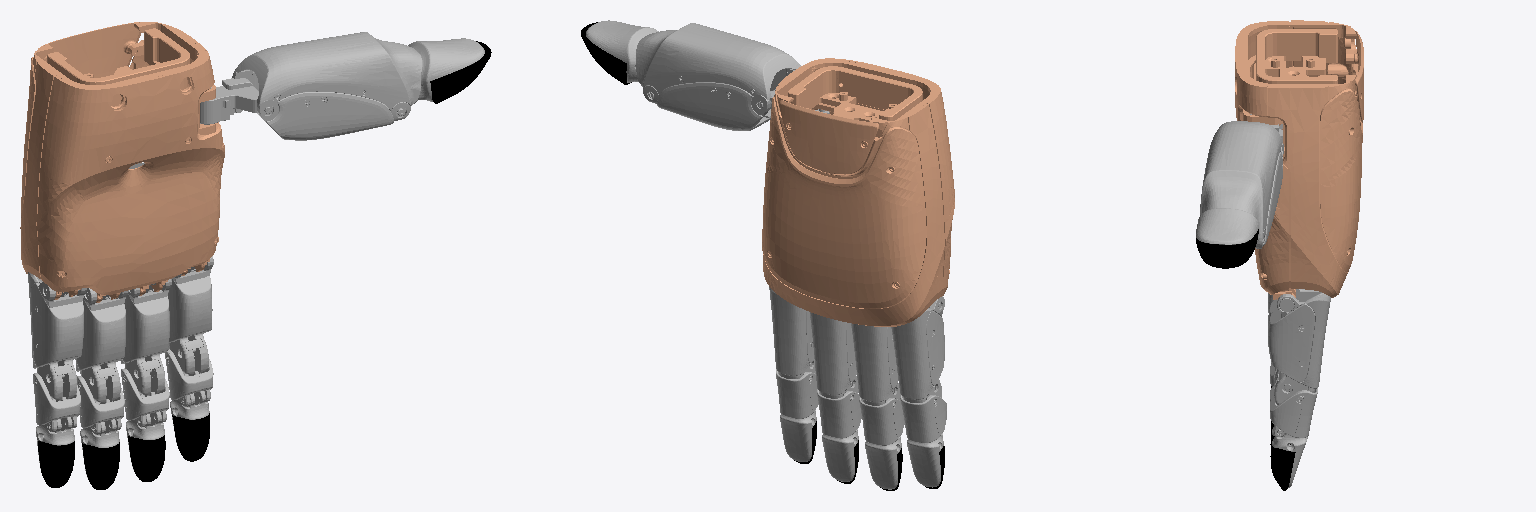
URDF robot description (DexH15_left_urdf):
<?xml version='1.0' encoding='utf-8'?>
<robot name="DexH15_left_urdf">
  <link name="left_palm_link">
    <inertial>
      <origin xyz="-0.000224527561288826 0.00158307933540662 -0.0214840283300513" rpy="0 0 0" />
      <mass value="0.138023316328305" />
      <inertia ixx="0.00010441363157202" ixy="7.84508741395596E-07" ixz="7.49593125316604E-07" iyy="0.000156427337479679" iyz="-8.26348519891999E-06" izz="9.45151976134503E-05" />
    </inertial>
    <visual>
      <origin xyz="0 0 0" rpy="0 0 0" />
      <geometry>
        <mesh filename="left_palm_link.STL" />
      </geometry>
      <material name="">
        <color rgba="0.929411764705882 0.705882352941176 0.568627450980392 1" />
      </material>
    </visual>
    </link>
  <link name="left_index_camera_link_0">
    <inertial>
      <origin xyz="-0.0345309373292912 -0.00144236772036107 0.0139433504314649" rpy="0 0 0" />
      <mass value="0.000654042467848702" />
      <inertia ixx="9.12315073908897E-09" ixy="-3.85978231875402E-22" ixz="-3.87386873734493E-22" iyy="9.51567345982665E-09" iyz="1.59008576074093E-09" izz="1.10027887776177E-08" />
    </inertial>
    <visual>
      <origin xyz="0 0 0" rpy="0 0 0" />
      <geometry>
        <mesh filename="left_index_camera_link_0.STL" />
      </geometry>
      <material name="">
        <color rgba="1 1 1 1" />
      </material>
    </visual>
    </link>
  <joint name="left_index_camera_joint_0" type="fixed">
    <origin xyz="0.03001849248823 -0.01832669382602 -0.017807888949226" rpy="3.14159265358979 0 0" />
    <parent link="left_palm_link" />
    <child link="left_index_camera_link_0" />
    <axis xyz="0 0 0" />
  </joint>
  <link name="left_thumb_link_0">
    <inertial>
      <origin xyz="0.00886190592400368 -0.00203400290112155 -0.000319447367067315" rpy="0 0 0" />
      <mass value="0.00395630335895201" />
      <inertia ixx="1.45654128977515E-07" ixy="-5.64417822654374E-08" ixz="1.82838410760135E-08" iyy="2.5184523636244E-07" iyz="1.18338554507999E-08" izz="3.36149981771904E-07" />
    </inertial>
    <visual>
      <origin xyz="0 0 0" rpy="0 0 0" />
      <geometry>
        <mesh filename="left_thumb_link_0.STL" />
      </geometry>
      <material name="">
        <color rgba="0.752941176470588 0.752941176470588 0.752941176470588 1" />
      </material>
    </visual>
    </link>
  <joint name="left_thumb_joint_0" type="revolute">
    <origin xyz="0.030018 -0.018327 -0.017808" rpy="3.1416 0 0" />
    <parent link="left_palm_link" />
    <child link="left_thumb_link_0" />
    <axis xyz="0 0 1" />
    <limit lower="0" upper="1.9129" effort="0" velocity="0" />
  </joint>
  <link name="left_thumb_link_1">
    <inertial>
      <origin xyz="0.0314598532944025 0.00518571088036306 6.24000457684279E-05" rpy="0 0 0" />
      <mass value="0.0186700386421083" />
      <inertia ixx="2.78068751676717E-06" ixy="-6.25632820068549E-07" ixz="-2.19324671389508E-08" iyy="7.1354171072541E-06" iyz="-1.84133130210875E-09" izz="5.83847795078633E-06" />
    </inertial>
    <visual>
      <origin xyz="0 0 0" rpy="0 0 0" />
      <geometry>
        <mesh filename="left_thumb_link_1.STL" />
      </geometry>
      <material name="">
        <color rgba="0.752941176470588 0.752941176470588 0.752941176470588 1" />
      </material>
    </visual>
    </link>
  <joint name="left_thumb_joint_1" type="revolute">
    <origin xyz="0.0213582162736342 0.00246508447013965 -0.00150009683382987" rpy="1.5707963267949 0 0.114907789219488" />
    <parent link="left_thumb_link_0" />
    <child link="left_thumb_link_1" />
    <axis xyz="0 0 0.999999999999996" />
    <limit lower="0" upper="1.5184" effort="0" velocity="0" />
  </joint>
  <link name="left_thumb_link_2">
    <inertial>
      <origin xyz="0.0115158413080773 -0.0118042467238058 -0.000244197665490851" rpy="0 0 0" />
      <mass value="0.015451379991269" />
      <inertia ixx="1.30225686518134E-06" ixy="5.2068665233815E-07" ixz="-3.64416529159111E-08" iyy="2.28234852593261E-06" iyz="1.41145553666713E-11" izz="2.35874397775107E-06" />
    </inertial>
    <visual>
      <origin xyz="0 0 0" rpy="0 0 0" />
      <geometry>
        <mesh filename="left_thumb_link_2.STL" />
      </geometry>
      <material name="">
        <color rgba="0.752941176470588 0.752941176470588 0.752941176470588 1" />
      </material>
    </visual>
    </link>
  <joint name="left_thumb_joint_2" type="revolute">
    <origin xyz="0.0602895552108653 0.0124999999999762 0" rpy="0 0 0" />
    <parent link="left_thumb_link_1" />
    <child link="left_thumb_link_2" />
    <axis xyz="0 0 0.999999999999996" />
    <limit lower="0" upper="2.0944" effort="0" velocity="0" />
  </joint>
  <link name="left_thumb_tactile_link_0">
    <inertial>
      <origin xyz="-5.78077314935047E-07 0.00725268176877747 0.00384771731961831" rpy="0 0 0" />
      <mass value="0.00728796921833148" />
      <inertia ixx="6.31336153673872E-07" ixy="2.93222685321651E-11" ixz="3.15221829171601E-11" iyy="4.14819918339156E-07" iyz="-2.36494153433172E-08" izz="8.00774477654966E-07" />
    </inertial>
    <visual>
      <origin xyz="0 0 0" rpy="0 0 0" />
      <geometry>
        <mesh filename="left_thumb_tactile_link_0.STL" />
      </geometry>
      <material name="">
        <color rgba="0 0 0 1" />
      </material>
    </visual>
    </link>
  <joint name="left_thumb_tactile_joint_0" type="fixed">
    <origin xyz="0.0180809955600047 -0.00892245083780965 0" rpy="1.16590454050981 -1.57079631189374 -3.0481158724312" />
    <parent link="left_thumb_link_2" />
    <child link="left_thumb_tactile_link_0" />
    <axis xyz="0 0 0" />
  </joint>
  <link name="left_index_link_0">
    <inertial>
      <origin xyz="0.0204566759048482 -0.00340392796790297 0.000106772385285211" rpy="0 0 0" />
      <mass value="0.00775077740728454" />
      <inertia ixx="3.44451476870945E-07" ixy="-4.78354768283327E-08" ixz="2.17194999011832E-08" iyy="1.38929483134256E-06" iyz="-3.19576191697703E-10" izz="1.28696816579278E-06" />
    </inertial>
    <visual>
      <origin xyz="0 0 0" rpy="0 0 0" />
      <geometry>
        <mesh filename="left_index_link_0.STL" />
      </geometry>
      <material name="">
        <color rgba="0.752941176470588 0.752941176470588 0.752941176470588 1" />
      </material>
    </visual>
    </link>
  <joint name="left_index_joint_0" type="revolute">
    <origin xyz="0.030201 -0.0042267 -0.094134" rpy="3.1416 1.5533 0" />
    <parent link="left_palm_link" />
    <child link="left_index_link_0" />
    <axis xyz="0 0 1" />
    <limit lower="0" upper="1.3962" effort="0" velocity="0" />
  </joint>
  <link name="left_index_link_1">
    <inertial>
      <origin xyz="0.00863637835336946 0.00390728796933644 0.00022812438552915" rpy="0 0 0" />
      <mass value="0.00147411538103135" />
      <inertia ixx="8.50523649205121E-08" ixy="-9.90027735639069E-09" ixz="1.360744834463E-10" iyy="8.83229560348037E-08" iyz="3.82289631659958E-10" izz="7.42498077305066E-08" />
    </inertial>
    <visual>
      <origin xyz="0 0 0" rpy="0 0 0" />
      <geometry>
        <mesh filename="left_index_link_1.STL" />
      </geometry>
      <material name="">
        <color rgba="0.752941176470588 0.752941176470588 0.752941176470588 1" />
      </material>
    </visual>
    </link>
  <joint name="left_index_joint_1" type="revolute">
    <origin xyz="0.04392915363646 -0.005969523805632 -9.99999999999925E-05" rpy="0 0 0" />
    <parent link="left_index_link_0" />
    <child link="left_index_link_1" />
    <axis xyz="0 0 1" />
    <limit lower="0" upper="1.4242" effort="0" velocity="0" />
  </joint>
  <link name="left_index_link_2">
    <inertial>
      <origin xyz="0.00876883740153682 -0.00431458381008099 2.53712887969514E-05" rpy="0 0 0" />
      <mass value="0.005252676301425" />
      <inertia ixx="1.14128982575059E-07" ixy="2.07811239731582E-08" ixz="8.71385135074927E-10" iyy="3.17984260602417E-07" iyz="3.96988691665183E-10" izz="2.89743910907443E-07" />
    </inertial>
    <visual>
      <origin xyz="0 0 0" rpy="0 0 0" />
      <geometry>
        <mesh filename="left_index_link_2.STL" />
      </geometry>
      <material name="">
        <color rgba="0.752941176470588 0.752941176470588 0.752941176470588 1" />
      </material>
    </visual>
    </link>
  <joint name="left_index_joint_2" type="revolute">
    <origin xyz="0.0167238384567498 0.00913378726174574 9.99999999999959E-05" rpy="0 0 0" />
    <parent link="left_index_link_1" />
    <child link="left_index_link_2" />
    <axis xyz="0 0 1" />
    <limit lower="0" upper="1.3265" effort="0" velocity="0" />
  </joint>
  <link name="left_index_tactile_link_0">
    <inertial>
      <origin xyz="-7.15639129139981E-06 0.00766631875010511 0.00153146885589252" rpy="0 0 0" />
      <mass value="0.00158520992402904" />
      <inertia ixx="5.42381925578706E-08" ixy="2.29314385505891E-11" ixz="2.18195244823304E-11" iyy="3.12163534275782E-08" iyz="3.83299582470554E-10" izz="6.98170364019621E-08" />
    </inertial>
    <visual>
      <origin xyz="0 0 0" rpy="0 0 0" />
      <geometry>
        <mesh filename="left_index_tactile_link_0.STL" />
      </geometry>
      <material name="">
        <color rgba="0 0 0 1" />
      </material>
    </visual>
    </link>
  <joint name="left_index_tactile_joint_0" type="fixed">
    <origin xyz="0.00890093470302482 -0.00221208366030078 0" rpy="-0.209440026514175 -1.57079630572147 -1.39618505518417" />
    <parent link="left_index_link_2" />
    <child link="left_index_tactile_link_0" />
    <axis xyz="0 0 0" />
  </joint>
  <link name="left_middle_link_0">
    <inertial>
      <origin xyz="0.0204566843404468 -0.00340391868913875 0.000106768367714546" rpy="0 0 0" />
      <mass value="0.00775077114830107" />
      <inertia ixx="3.44450484584185E-07" ixy="-4.78341328337178E-08" ixz="2.17188635148522E-08" iyy="1.38929048262302E-06" iyz="-3.19908504195602E-10" izz="1.28696329179596E-06" />
    </inertial>
    <visual>
      <origin xyz="0 0 0" rpy="0 0 0" />
      <geometry>
        <mesh filename="left_middle_link_0.STL" />
      </geometry>
      <material name="">
        <color rgba="0.752941176470588 0.752941176470588 0.752941176470588 1" />
      </material>
    </visual>
    </link>
  <joint name="left_middle_joint_0" type="revolute">
    <origin xyz="0.010124 -0.0042267 -0.098624" rpy="3.1416 1.5708 0" />
    <parent link="left_palm_link" />
    <child link="left_middle_link_0" />
    <axis xyz="0 0 1" />
    <limit lower="0" upper="1.3962" effort="0" velocity="0" />
  </joint>
  <link name="left_middle_link_1">
    <inertial>
      <origin xyz="0.00863630329429653 0.00390717697250072 0.000178198821438267" rpy="0 0 0" />
      <mass value="0.00147412457646992" />
      <inertia ixx="8.50531857082762E-08" ixy="-9.90080938380614E-09" ixz="1.36620691896439E-10" iyy="8.83234859795491E-08" iyz="3.82911990898269E-10" izz="7.42511592135602E-08" />
    </inertial>
    <visual>
      <origin xyz="0 0 0" rpy="0 0 0" />
      <geometry>
        <mesh filename="left_middle_link_1.STL" />
      </geometry>
      <material name="">
        <color rgba="0.752941176470588 0.752941176470588 0.752941176470588 1" />
      </material>
    </visual>
    </link>
  <joint name="left_middle_joint_1" type="revolute">
    <origin xyz="0.04392915363646 -0.005969523805632 -5.00000000000014E-05" rpy="0 0 0" />
    <parent link="left_middle_link_0" />
    <child link="left_middle_link_1" />
    <axis xyz="0 0 1" />
    <limit lower="0" upper="1.4242" effort="0" velocity="0" />
  </joint>
  <link name="left_middle_link_2">
    <inertial>
      <origin xyz="0.0104963648190131 -0.00356220705840366 1.79692073175742E-05" rpy="0 0 0" />
      <mass value="0.00350577686542458" />
      <inertia ixx="7.62409548221202E-08" ixy="8.62719579764757E-09" ixz="4.61196647645369E-10" iyy="2.04263268771956E-07" iyz="2.18411648477994E-10" izz="1.80423307137445E-07" />
    </inertial>
    <visual>
      <origin xyz="0 0 0" rpy="0 0 0" />
      <geometry>
        <mesh filename="left_middle_link_2.STL" />
      </geometry>
      <material name="">
        <color rgba="0.752941176470588 0.752941176470588 0.752941176470588 1" />
      </material>
    </visual>
    </link>
  <joint name="left_middle_joint_2" type="revolute">
    <origin xyz="0.016723753369016 0.00913394305449331 5.00004041466481E-05" rpy="0 0 0" />
    <parent link="left_middle_link_1" />
    <child link="left_middle_link_2" />
    <axis xyz="0 0 1" />
    <limit lower="0" upper="1.3265" effort="0" velocity="0" />
  </joint>
  <link name="left_middle_tactile_link_0">
    <inertial>
      <origin xyz="-7.15844607341622E-06 0.00766635884219313 0.00153148014341381" rpy="0 0 0" />
      <mass value="0.00158521558034911" />
      <inertia ixx="5.42385291304753E-08" ixy="2.30172330666832E-11" ixz="2.18046948187613E-11" iyy="3.12164225504677E-08" iyz="3.83172825410139E-10" izz="6.98173241973119E-08" />
    </inertial>
    <visual>
      <origin xyz="0 0 0" rpy="0 0 0" />
      <geometry>
        <mesh filename="left_middle_tactile_link_0.STL" />
      </geometry>
      <material name="">
        <color rgba="0 0 0 1" />
      </material>
    </visual>
    </link>
  <joint name="left_middle_tactile_joint_0" type="fixed">
    <origin xyz="0.00890093470302482 -0.00221208366030078 0" rpy="-0.209440026514175 -1.57079630572147 -1.39618505518417" />

    <parent link="left_middle_link_2" />
    <child link="left_middle_tactile_link_0" />
    <axis xyz="0 0 0" />
  </joint>
  <link name="left_ring_link_0">
    <inertial>
      <origin xyz="0.0204566799094852 -0.00340394110598915 0.000106728030791091" rpy="0 0 0" />
      <mass value="0.00775076085736334" />
      <inertia ixx="3.44452724587101E-07" ixy="-4.78355554817442E-08" ixz="2.17143080175849E-08" iyy="1.38929120760948E-06" iyz="-3.23578169779354E-10" izz="1.28696060487313E-06" />
    </inertial>
    <visual>
      <origin xyz="0 0 0" rpy="0 0 0" />
      <geometry>
        <mesh filename="left_ring_link_0.STL" />
      </geometry>
      <material name="">
        <color rgba="0.752941176470588 0.752941176470588 0.752941176470588 1" />
      </material>
    </visual>
    </link>
  <joint name="left_ring_joint_0" type="revolute">
    <origin xyz="-0.010453 -0.0042267 -0.097134" rpy="0 1.5533 3.1416" />
    <parent link="left_palm_link" />
    <child link="left_ring_link_0" />
    <axis xyz="0 0 1" />
    <limit lower="0" upper="1.3962" effort="0" velocity="0" />
  </joint>
  <link name="left_ring_link_1">
    <inertial>
      <origin xyz="0.00863656473844775 0.00390667648276935 0.000178232806539416" rpy="0 0 0" />
      <mass value="0.0014741131075788" />
      <inertia ixx="8.50509302188356E-08" ixy="-9.90009590017202E-09" ixz="1.36906888194624E-10" iyy="8.83248382793323E-08" iyz="3.8338680560416E-10" izz="7.42503757420285E-08" />
    </inertial>
    <visual>
      <origin xyz="0 0 0" rpy="0 0 0" />
      <geometry>
        <mesh filename="left_ring_link_1.STL" />
      </geometry>
      <material name="">
        <color rgba="0.752941176470588 0.752941176470588 0.752941176470588 1" />
      </material>
    </visual>
    </link>
  <joint name="left_ring_joint_1" type="revolute">
    <origin xyz="0.04392915363646 -0.005969523805632 -4.99999999999962E-05" rpy="0 0 0" />
    <parent link="left_ring_link_0" />
    <child link="left_ring_link_1" />
    <axis xyz="0 0 1" />
    <limit lower="0" upper="1.4242" effort="0" velocity="0" />
  </joint>
  <link name="left_ring_link_2">
    <inertial>
      <origin xyz="0.0104959877037091 -0.00356299090961758 1.79692717223665E-05" rpy="0 0 0" />
      <mass value="0.00350578304499802" />
      <inertia ixx="7.62425962047337E-08" ixy="8.6385768518345E-09" ixz="4.61267449615145E-10" iyy="2.04262133127794E-07" iyz="2.18350852185257E-10" izz="1.80423783141213E-07" />
    </inertial>
    <visual>
      <origin xyz="0 0 0" rpy="0 0 0" />
      <geometry>
        <mesh filename="left_ring_link_2.STL" />
      </geometry>
      <material name="">
        <color rgba="0.752941176470588 0.752941176470588 0.752941176470588 1" />
      </material>
    </visual>
    </link>
  <joint name="left_ring_joint_2" type="revolute">
    <origin xyz="0.0167243755033895 0.00913280386803666 4.99999999999997E-05" rpy="0 0 0" />
    <parent link="left_ring_link_1" />
    <child link="left_ring_link_2" />
    <axis xyz="0 0 1" />
    <limit lower="0" upper="1.3265" effort="0" velocity="0" />
  </joint>
  <link name="left_ring_tactile_link_0">
    <inertial>
      <origin xyz="-7.15541671762743E-06 0.00766639156198312 0.00153149157651967" rpy="0 0 0" />
      <mass value="0.00158521916302358" />
      <inertia ixx="5.42387930699269E-08" ixy="2.30550121512106E-11" ixz="2.18004637932601E-11" iyy="3.12164460613495E-08" iyz="3.83037594481985E-10" izz="6.98175063378475E-08" />
    </inertial>
    <visual>
      <origin xyz="0 0 0" rpy="0 0 0" />
      <geometry>
        <mesh filename="left_ring_tactile_link_0.STL" />
      </geometry>
      <material name="">
        <color rgba="0 0 0 1" />
      </material>
    </visual>
    </link>
  <joint name="left_ring_tactile_joint_0" type="fixed">
    <origin xyz="0.0089007023596345 -0.00221269147396499 0" rpy="-0.209508596064922 -1.57079631189374 -1.39620674492064" />
    <parent link="left_ring_link_2" />
    <child link="left_ring_tactile_link_0" />
    <axis xyz="0 0 0" />
  </joint>
  <link name="left_pinky_link_0">
    <inertial>
      <origin xyz="0.0204567127384005 -0.0034039131860276 0.000106743859423136" rpy="0 0 0" />
      <mass value="0.00775072844348533" />
      <inertia ixx="3.44448176446781E-07" ixy="-4.78315002665733E-08" ixz="2.17135671842384E-08" iyy="1.38928021700541E-06" iyz="-3.2256933391953E-10" izz="1.28694894767849E-06" />
    </inertial>
    <visual>
      <origin xyz="0 0 0" rpy="0 0 0" />
      <geometry>
        <mesh filename="left_pinky_link_0.STL" />
      </geometry>
      <material name="">
        <color rgba="0.752941176470588 0.752941176470588 0.752941176470588 1" />
      </material>
    </visual>
    </link>
  <joint name="left_pinky_joint_0" type="revolute">
    <origin xyz="-0.03024425117588 -0.00422669382602999 -0.091146782918886" rpy="0 1.53101985492608 3.14159265358979" />
    <parent link="left_palm_link" />
    <child link="left_pinky_link_0" />
    <axis xyz="0 0 1" />
    <limit lower="0" upper="1.3962" effort="0" velocity="0" />
  </joint>
  <link name="left_pinky_link_1">
    <inertial>
      <origin xyz="0.00863655350828611 0.0039067127925473 0.000178243368767029" rpy="0 0 0" />
      <mass value="0.00147411219977373" />
      <inertia ixx="8.50508776599289E-08" ixy="-9.90010875713495E-09" ixz="1.37001987854559E-10" iyy="8.83246994146833E-08" iyz="3.834493370159E-10" izz="7.4250258388128E-08" />
    </inertial>
    <visual>
      <origin xyz="0 0 0" rpy="0 0 0" />
      <geometry>
        <mesh filename="left_pinky_link_1.STL" />
      </geometry>
      <material name="">
        <color rgba="0.752941176470588 0.752941176470588 0.752941176470588 1" />
      </material>
    </visual>
    </link>
  <joint name="left_pinky_joint_1" type="revolute">
    <origin xyz="0.04392915363646 -0.005969523805632 -4.99999999999876E-05" rpy="0 0 0" />
    <parent link="left_pinky_link_0" />
    <child link="left_pinky_link_1" />
    <axis xyz="0 0 1" />
    <limit lower="0" upper="1.4242" effort="0" velocity="0" />
  </joint>
  <link name="left_pinky_link_2">
    <inertial>
      <origin xyz="0.010496004344598 -0.0035629424333673 1.79745010169333E-05" rpy="0 0 0" />
      <mass value="0.00350578109895467" />
      <inertia ixx="7.62424753073408E-08" ixy="8.63788001413348E-09" ixz="4.61254523164678E-10" iyy="2.04262171107546E-07" iyz="2.18346092511805E-10" izz="1.80423859081012E-07" />
    </inertial>
    <visual>
      <origin xyz="0 0 0" rpy="0 0 0" />
      <geometry>
        <mesh filename="left_pinky_link_2.STL" />
      </geometry>
      <material name="">
        <color rgba="0.752941176470588 0.752941176470588 0.752941176470588 1" />
      </material>
    </visual>
    </link>
  <joint name="left_pinky_joint_2" type="revolute">
    <origin xyz="0.0167243485647923 0.00913285319895867 4.99999999999945E-05" rpy="0 0 0" />
    <parent link="left_pinky_link_1" />
    <child link="left_pinky_link_2" />
    <axis xyz="0 0 1" />
    <limit lower="0" upper="1.3265" effort="0" velocity="0" />
  </joint>
  <link name="left_pinky_tactile_link_0">
    <inertial>
      <origin xyz="-7.14358971995455E-06 0.00766640462962512 0.00153149665580644" rpy="0 0 0" />
      <mass value="0.00158521629715875" />
      <inertia ixx="5.42388591160837E-08" ixy="2.30039380728861E-11" ixz="2.17969870089367E-11" iyy="3.12163701243537E-08" iyz="3.8293793025905E-10" izz="6.98174651358071E-08" />
    </inertial>
    <visual>
      <origin xyz="0 0 0" rpy="0 0 0" />
      <geometry>
        <mesh filename="left_pinky_tactile_link_0.STL" />
      </geometry>
      <material name="">
        <color rgba="0 0 0 1" />
      </material>
    </visual>
    </link>
  <joint name="left_pinky_tactile_joint_0" type="fixed">
    <origin xyz="0.00890071232397469 -0.00221265139133513 0" rpy="-0.209508592020271 -1.57079630572147 -1.39619987514526" />
    <parent link="left_pinky_link_2" />
    <child link="left_pinky_tactile_link_0" />
    <axis xyz="0 0 0" />
  </joint>
<mujoco><compiler meshdir="/opt/models/left/meshes" strippath="true" discardvisual="false" fusestatic="false" balanceinertia="true" boundmass="0.000001" boundinertia="0.000000001" /></mujoco></robot>

--- What the picture shows (computed from the rendered views, not written in the file) ---
Views: 3 orthographic renders of the robot side by side, from view 1: azimuth 30°, elevation 25°; view 2: azimuth 150°, elevation 25°; view 3: azimuth 270°, elevation 25°.
Robot: DexH15_left_urdf — 22 links, 21 joints (15 revolute, 6 fixed); root link left_palm_link; default pose: every joint at zero.
Visible links, largest first — view 1: left_palm_link, left_thumb_link_1, left_pinky_link_0, left_ring_link_0, left_middle_link_0, left_index_link_0, left_thumb_link_2, left_thumb_link_0, left_pinky_link_1, left_middle_link_1, left_index_link_1, left_ring_link_1 (+9 smaller); view 2: left_palm_link, left_thumb_link_1, left_pinky_link_0, left_middle_link_0, left_ring_link_0, left_index_link_0, left_thumb_link_2, left_pinky_link_1, left_ring_link_1, left_middle_link_1, left_index_link_1, left_pinky_link_2 (+4 smaller); view 3: left_palm_link, left_thumb_link_1, left_index_link_0, left_thumb_link_2, left_index_link_1, left_thumb_tactile_link_0, left_index_tactile_link_0, left_index_link_2.
Boxes of the visible links, left/top/right/bottom form: left_palm_link: left=20, top=22, right=224, bottom=302; left_thumb_link_1: left=232, top=32, right=421, bottom=140; left_pinky_link_0: left=28, top=272, right=86, bottom=400; left_ring_link_0: left=75, top=288, right=128, bottom=402; left_middle_link_0: left=120, top=279, right=171, bottom=395; left_index_link_0: left=168, top=256, right=213, bottom=374; left_thumb_link_2: left=397, top=38, right=484, bottom=115; left_thumb_link_0: left=200, top=78, right=271, bottom=124; left_pinky_link_1: left=33, top=373, right=80, bottom=431; left_middle_link_1: left=121, top=368, right=169, bottom=427; left_index_link_1: left=165, top=349, right=213, bottom=406; left_ring_link_1: left=77, top=376, right=124, bottom=434; left_palm_link: left=762, top=58, right=954, bottom=326; left_thumb_link_1: left=636, top=23, right=800, bottom=130; left_pinky_link_0: left=891, top=296, right=944, bottom=402; left_middle_link_0: left=810, top=312, right=858, bottom=398; left_ring_link_0: left=851, top=323, right=900, bottom=405; left_index_link_0: left=769, top=287, right=815, bottom=378; left_thumb_link_2: left=586, top=20, right=658, bottom=98; left_pinky_link_1: left=900, top=394, right=946, bottom=442; left_ring_link_1: left=859, top=396, right=904, bottom=445; left_middle_link_1: left=817, top=389, right=861, bottom=438; left_index_link_1: left=776, top=369, right=818, bottom=418; left_pinky_link_2: left=907, top=433, right=943, bottom=487; left_palm_link: left=1235, top=20, right=1363, bottom=299; left_thumb_link_1: left=1200, top=121, right=1283, bottom=248; left_index_link_0: left=1268, top=289, right=1330, bottom=404; left_thumb_link_2: left=1196, top=208, right=1263, bottom=244; left_index_link_1: left=1270, top=388, right=1317, bottom=437; left_thumb_tactile_link_0: left=1196, top=229, right=1258, bottom=268; left_index_tactile_link_0: left=1270, top=443, right=1295, bottom=490; left_index_link_2: left=1272, top=425, right=1307, bottom=487.
Bounding box of the posed robot: 0.199 × 0.072 × 0.1946 m (x, y, z).
Meshes: 22 distinct files referenced, 22 mesh visuals loaded (22 binary STL).
